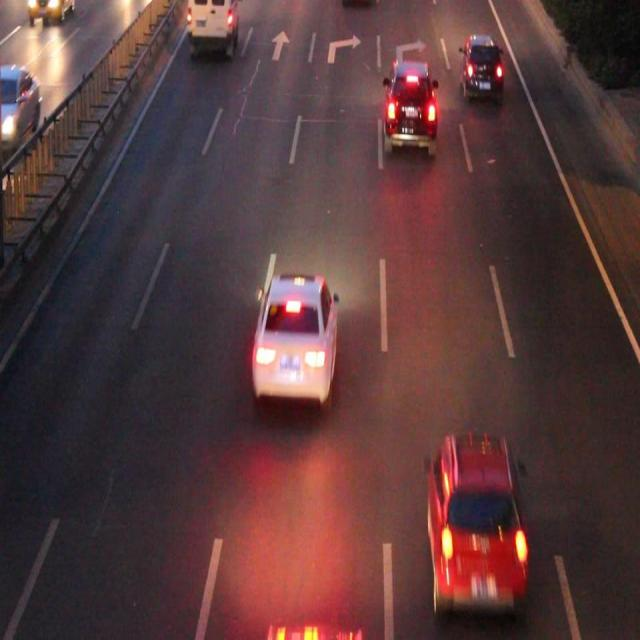car: (426, 436, 524, 608), (253, 278, 336, 396), (384, 64, 436, 148), (461, 36, 501, 98)
truck: (188, 2, 238, 48)
